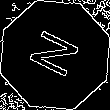N_SE: (23, 26, 87, 84)
